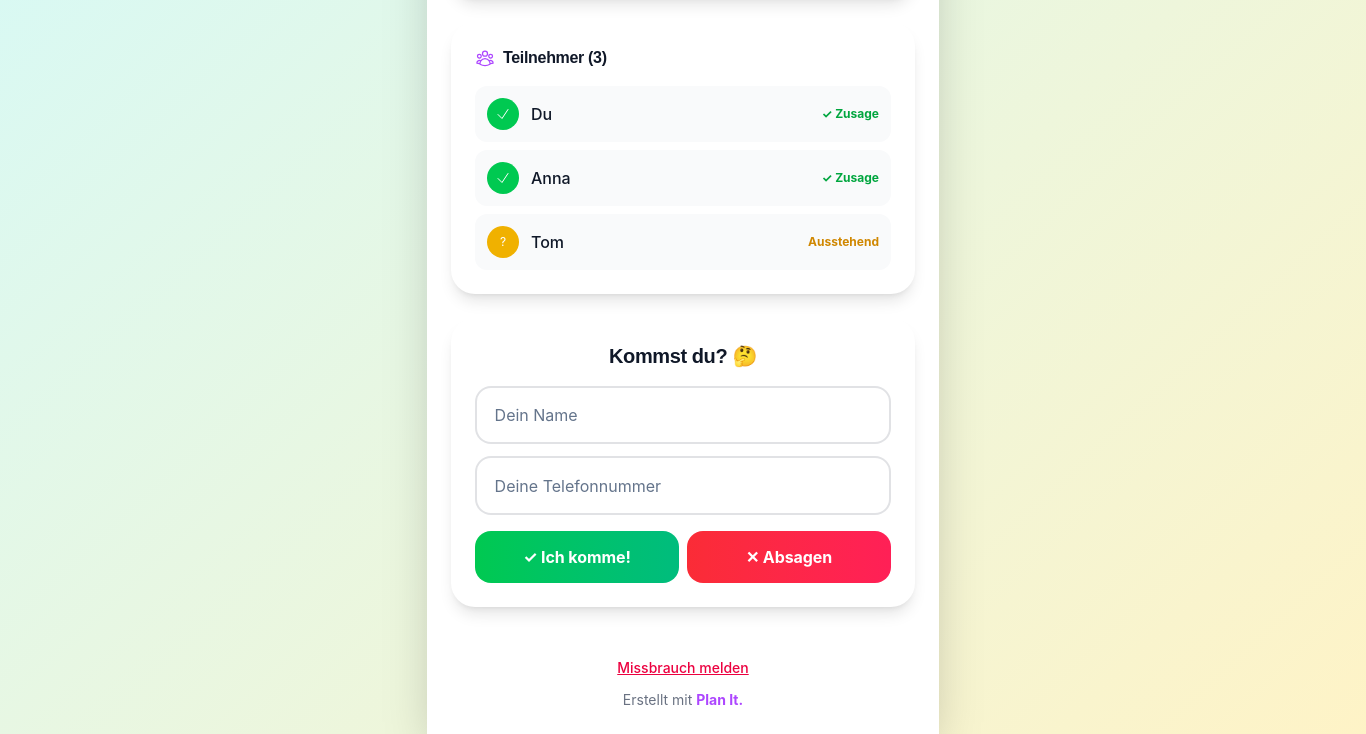
Test: public invitation response › labels late responses clearly to reduce no-show confusion
(page scrolled)
Type "Late Jamie" into the field with placeholder "Dein Name".
click(683, 415); type("Late Jamie")  # box [475,386,891,444]
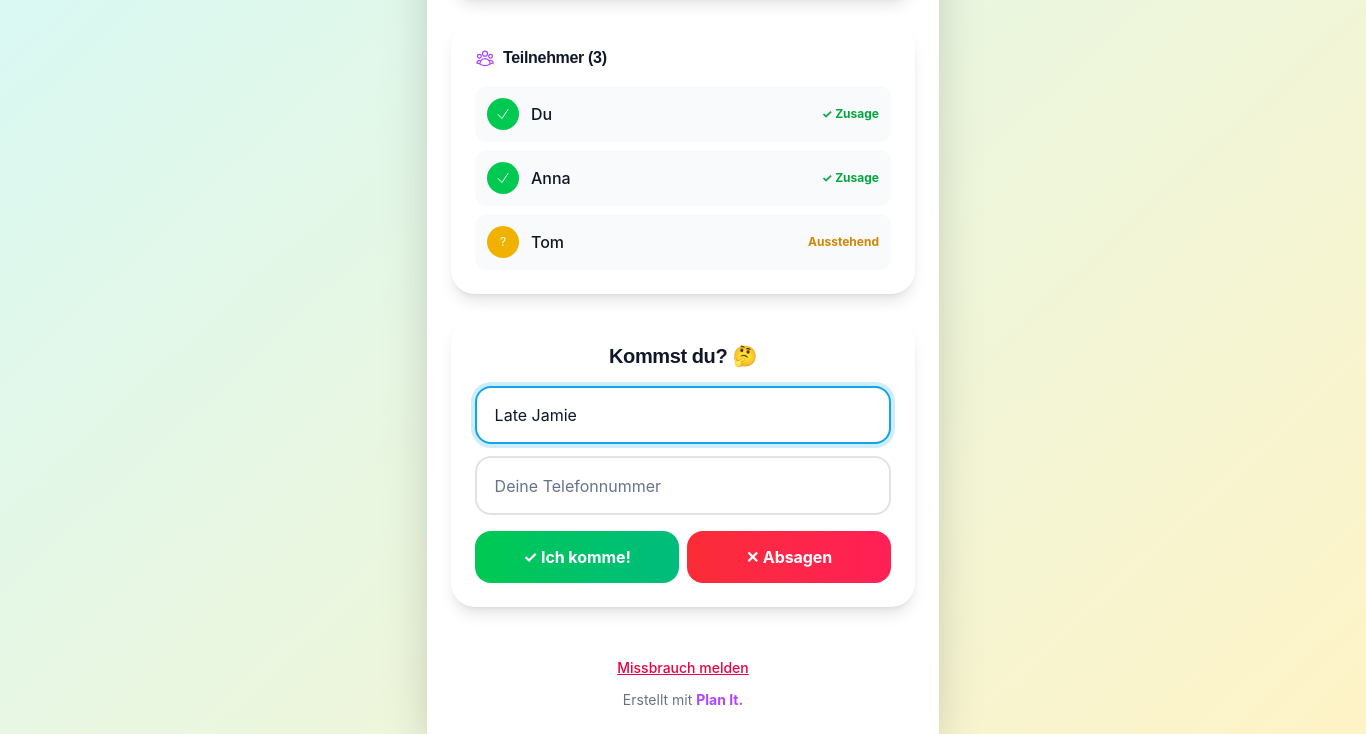
Type "+491266667777" into the field with placeholder "Deine Telefonnummer".
click(683, 486); type("+491266667777")  # box [475,456,891,515]
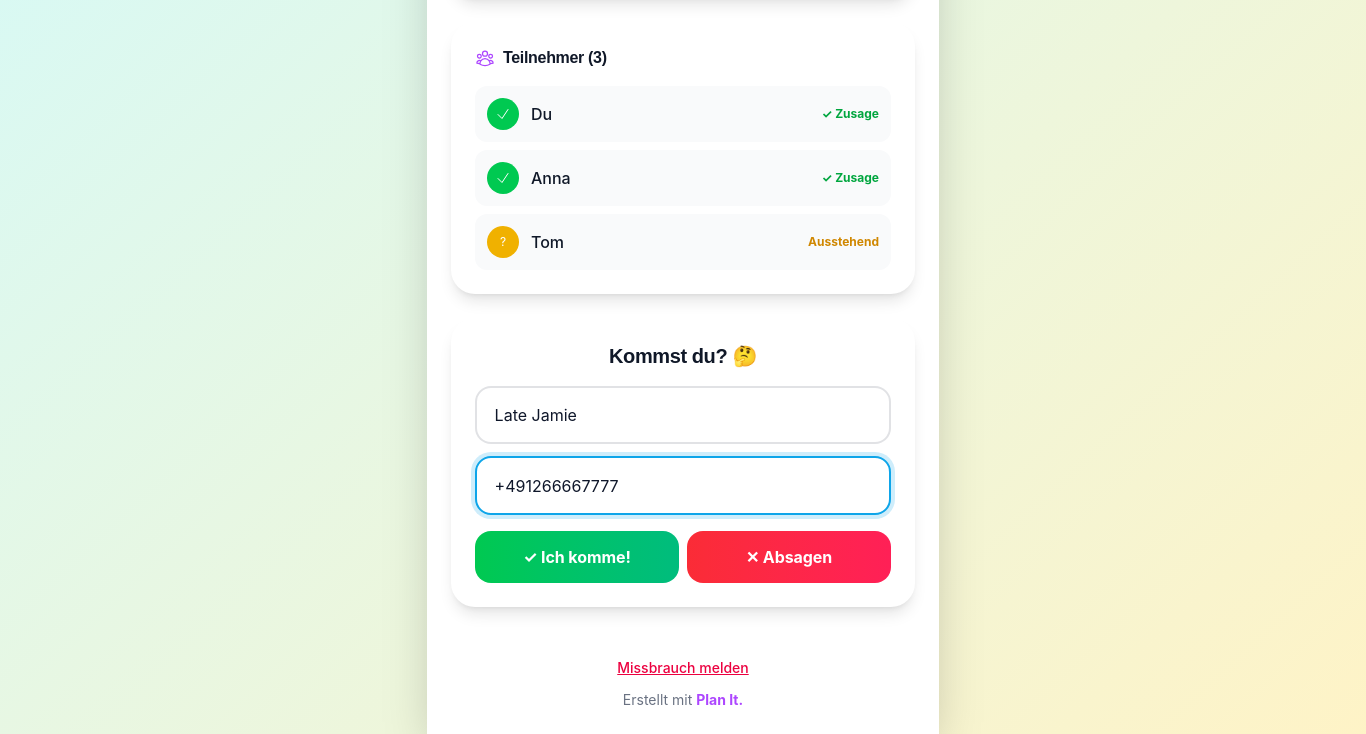
Click the button "✓ Ich komme!".
click(577, 557)  # box [475,531,679,583]
(page scrolled)
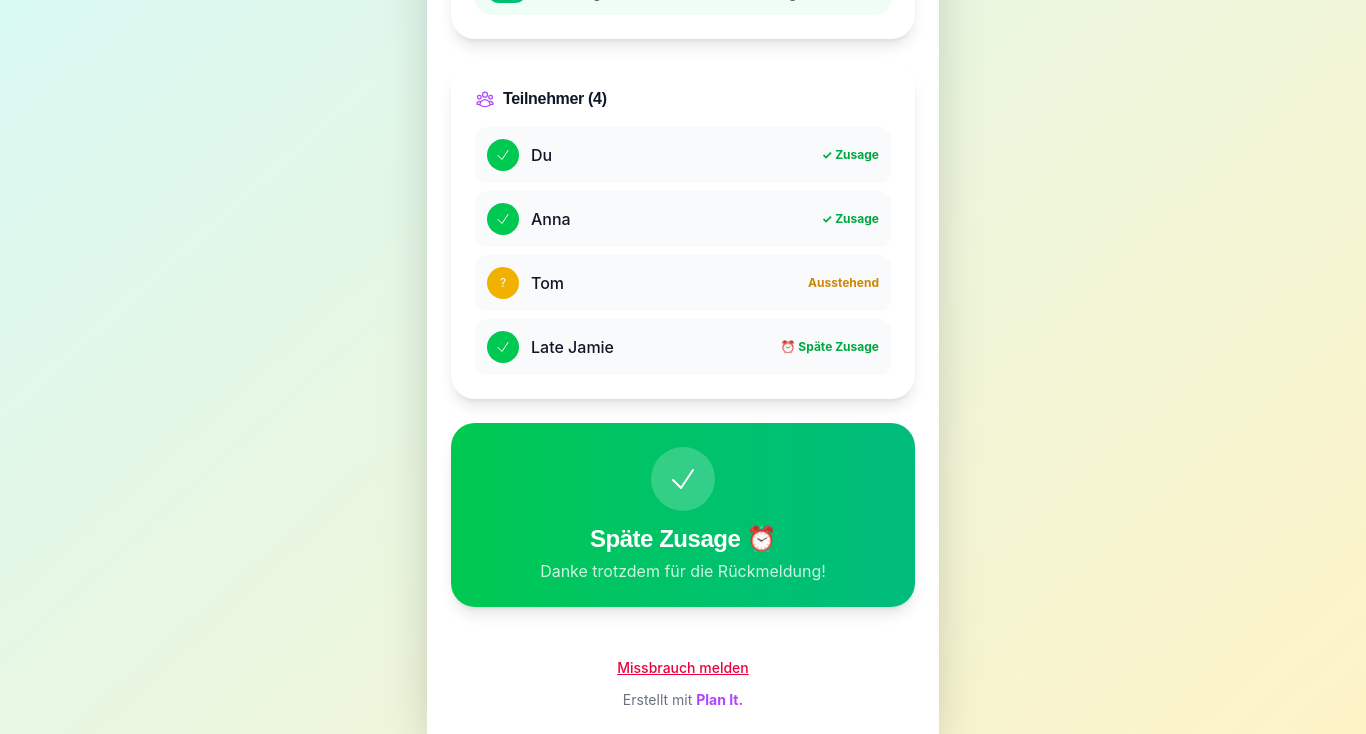
Expected: the text "⏰ Späte Zusage" is shown, [780,339,879,355]
